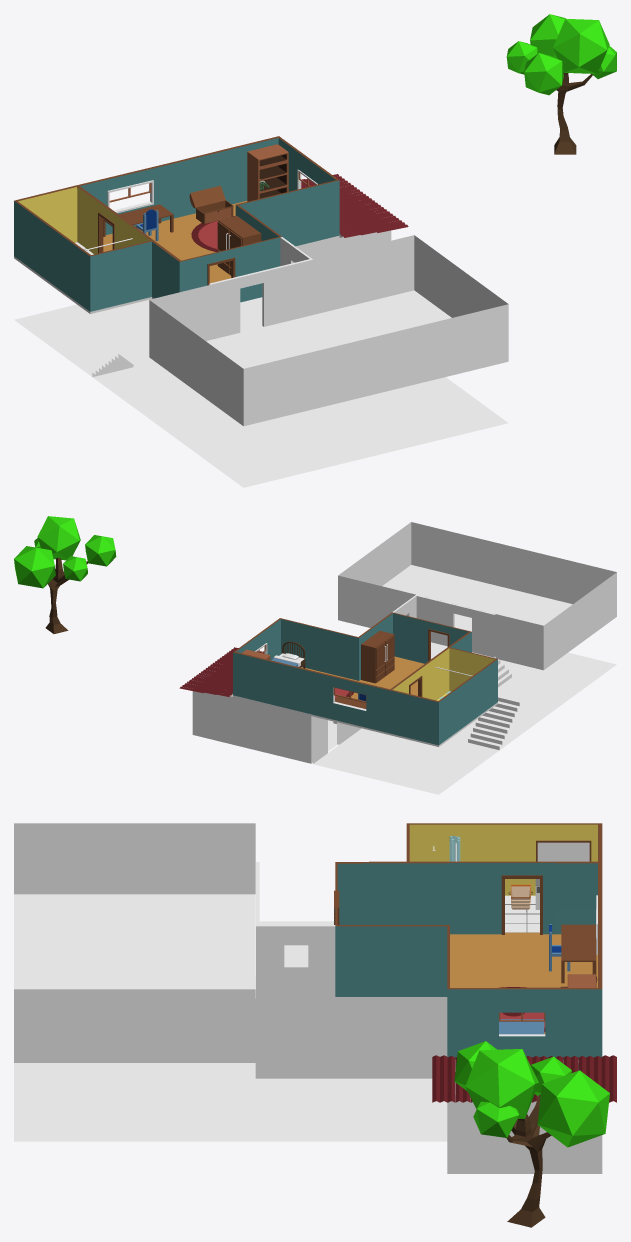
Rendered from projeto quarto Inter 3.0.fbx.
3 renders of one model, top to bottom at view 1: azimuth 30°, elevation 25°; view 2: azimuth 150°, elevation 25°; view 3: azimuth 270°, elevation 25°, orthographic. The views are drawn at different scales.
Parts seen in each view (by area): view 1: Quarto dos pais, Quarto, Garagem, Sala, Arvore2, Hall, Telhadu, Estante Livros, Armario, Cozinha, Baú, tapete (+1 smaller); view 2: Quarto dos pais, Quarto, Sala, Cozinha, Hall, Arvore2, Garagem, Armario, Telhadu, Cama; view 3: Quarto dos pais, Quarto, Cozinha, Garagem, Arvore2, Hall, Telhadu, Mesa, Espelho banheiro, Cama.
Part boxes in pixels (x1=…): Quarto dos pais: x1=149, y1=235, x2=508, y2=426; Quarto: x1=14, y1=136, x2=339, y2=313; Garagem: x1=142, y1=377, x2=508, y2=487; Sala: x1=14, y1=300, x2=204, y2=413; Arvore2: x1=506, y1=14, x2=616, y2=154; Hall: x1=92, y1=237, x2=312, y2=377; Telhadu: x1=301, y1=174, x2=408, y2=237; Estante Livros: x1=247, y1=144, x2=288, y2=201; Armario: x1=217, y1=215, x2=261, y2=275; Cozinha: x1=293, y1=230, x2=391, y2=262; Baú: x1=195, y1=200, x2=233, y2=224; tapete: x1=191, y1=216, x2=234, y2=251; Quarto dos pais: x1=338, y1=522, x2=616, y2=670; Quarto: x1=233, y1=612, x2=497, y2=746; Sala: x1=313, y1=716, x2=537, y2=794; Cozinha: x1=192, y1=691, x2=338, y2=763; Hall: x1=392, y1=594, x2=543, y2=750; Arvore2: x1=14, y1=516, x2=116, y2=633; Garagem: x1=500, y1=652, x2=616, y2=722; Armario: x1=361, y1=631, x2=394, y2=683; Telhadu: x1=179, y1=647, x2=264, y2=696; Cama: x1=271, y1=641, x2=305, y2=668; Quarto dos pais: x1=14, y1=823, x2=255, y2=1062; Quarto: x1=334, y1=823, x2=602, y2=1062; Cozinha: x1=275, y1=1000, x2=602, y2=1173; Garagem: x1=14, y1=976, x2=274, y2=1141; Arvore2: x1=454, y1=1041, x2=609, y2=1227; Hall: x1=256, y1=862, x2=335, y2=999; Telhadu: x1=432, y1=1055, x2=616, y2=1102; Mesa: x1=561, y1=924, x2=596, y2=983; Espelho banheiro: x1=536, y1=840, x2=591, y2=861; Cama: x1=499, y1=1019, x2=544, y2=1034.
Bounding box in the file's own units: 5883 × 1969 × 4265.
